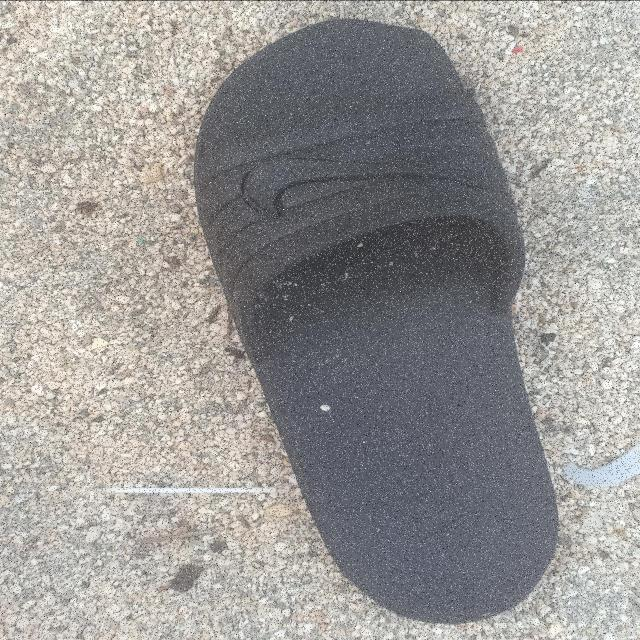rubber_waste: (193, 18, 561, 624)
